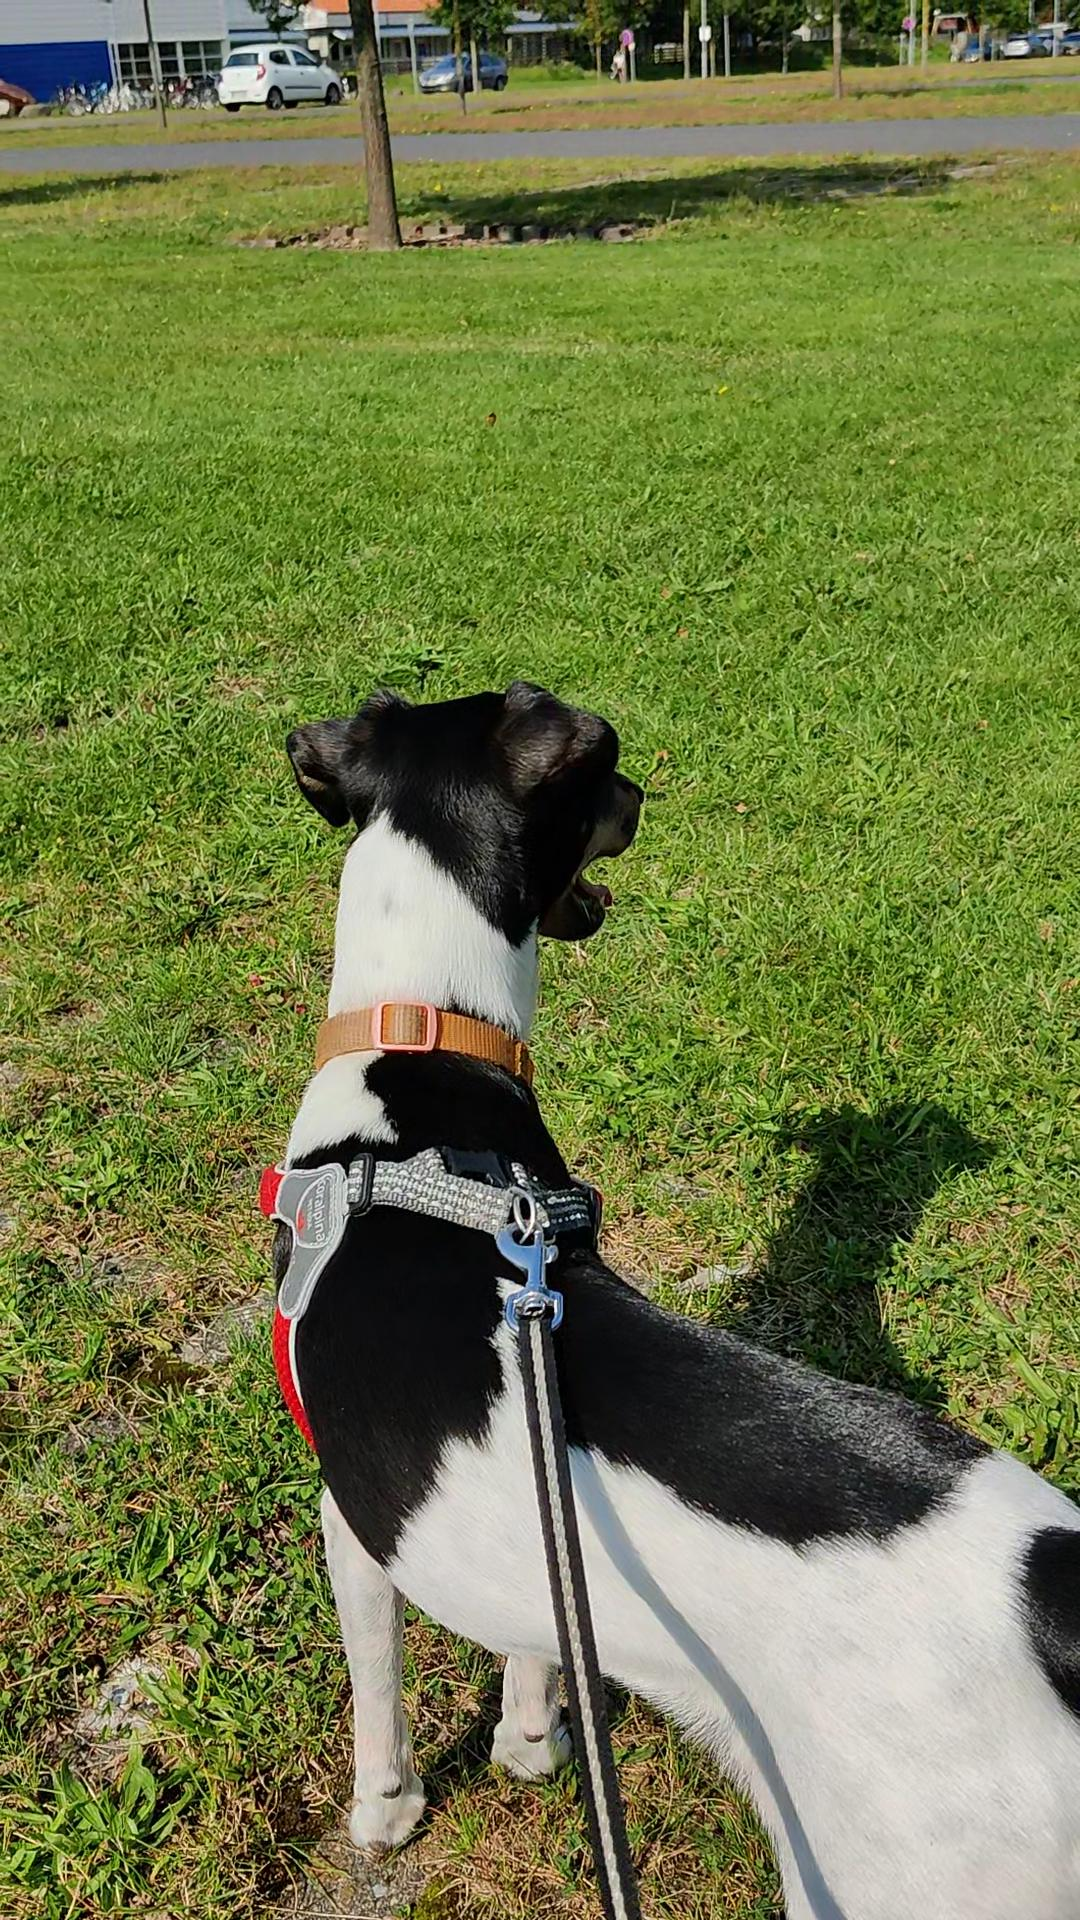Dog: (233, 640, 1079, 1919)
